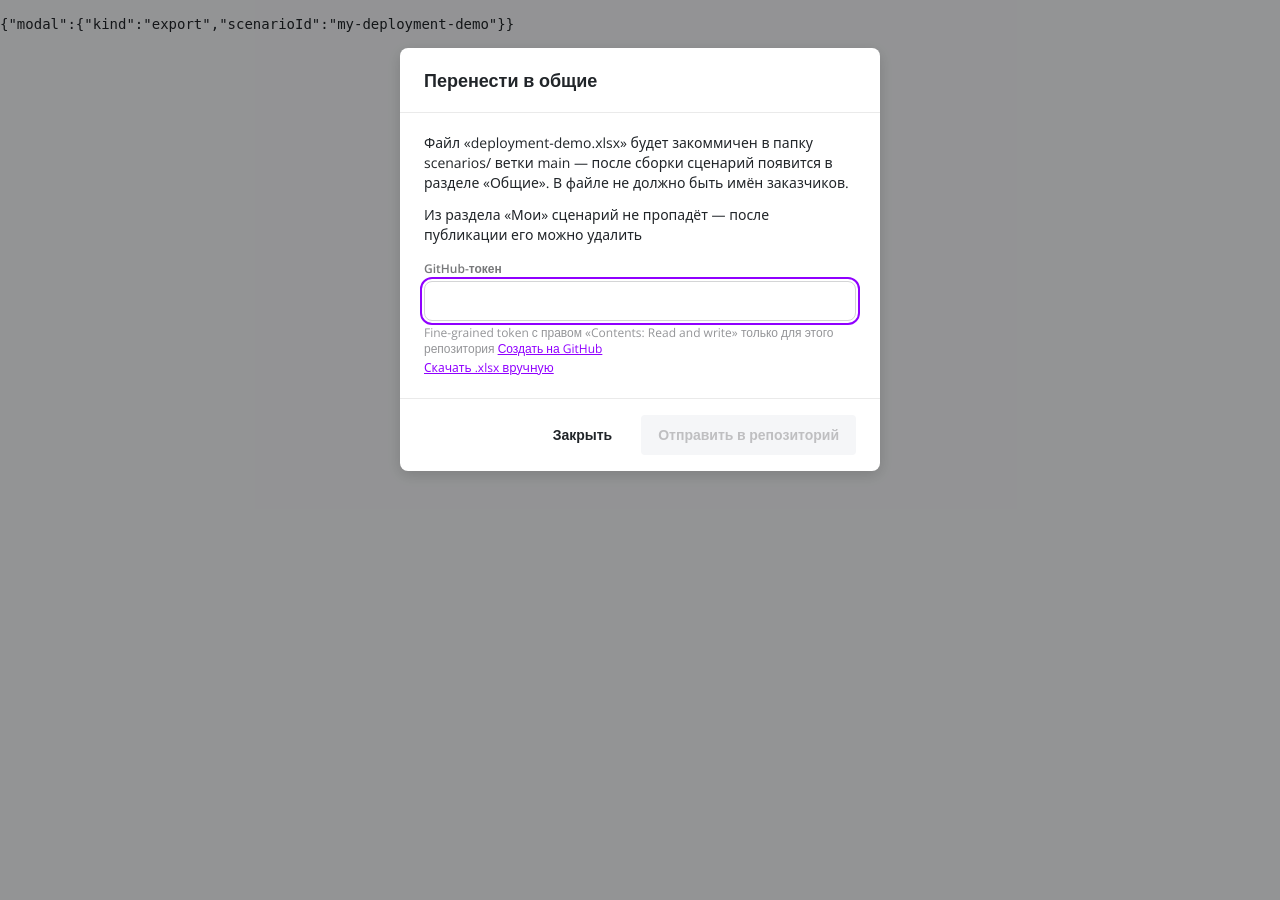
Test: ExportDialog — отправка в репозиторий (SPEC §4.2:255, ТК 35) › отказ сборки книги (SheetJS не загрузился) — «не получилось отправить»
Type "github_pat_fresh" into the password field labelled "GitHub-токен" at (640, 301), box [424,281,856,321]
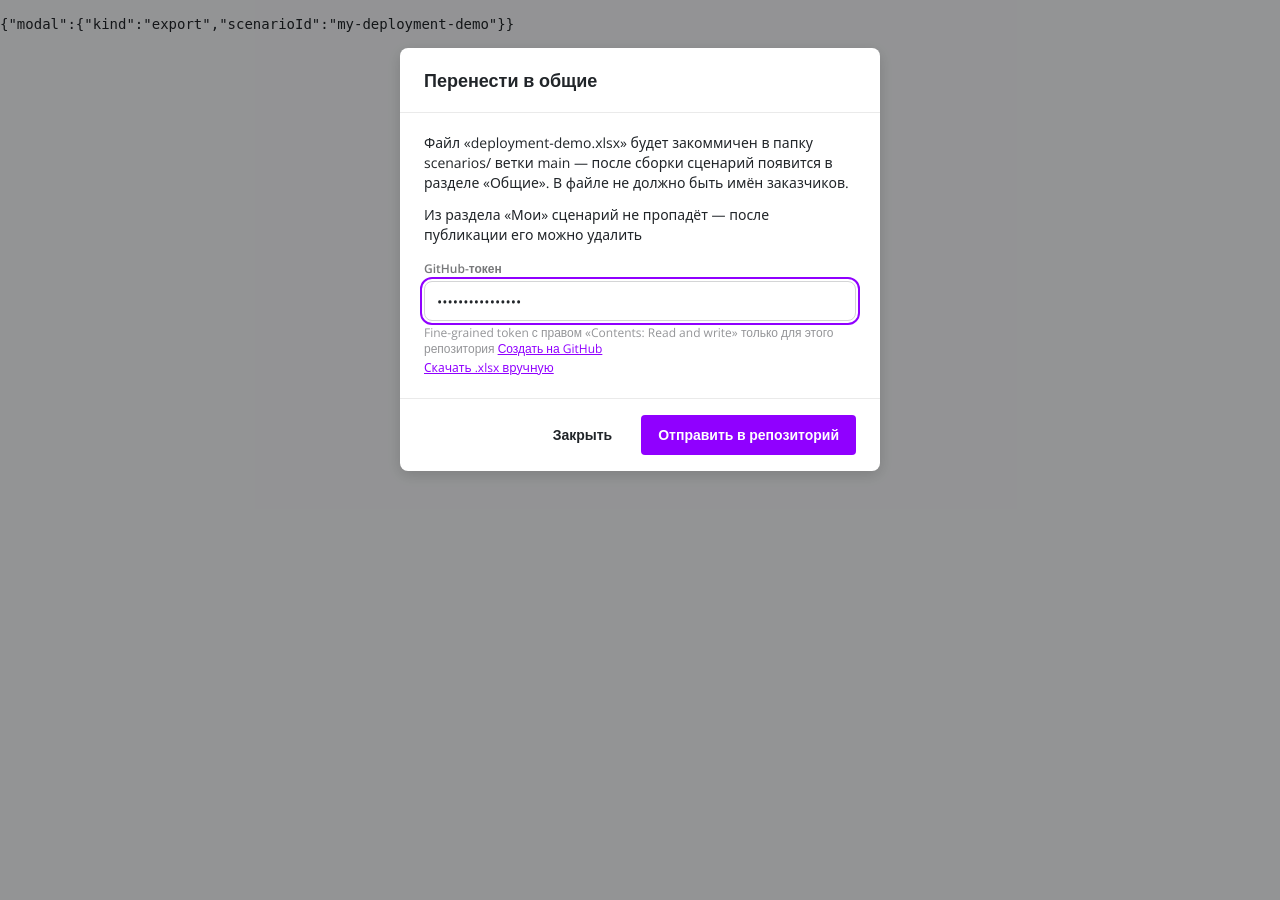
Click the button "Отправить в репозиторий" at (749, 435), box [641,415,856,455]
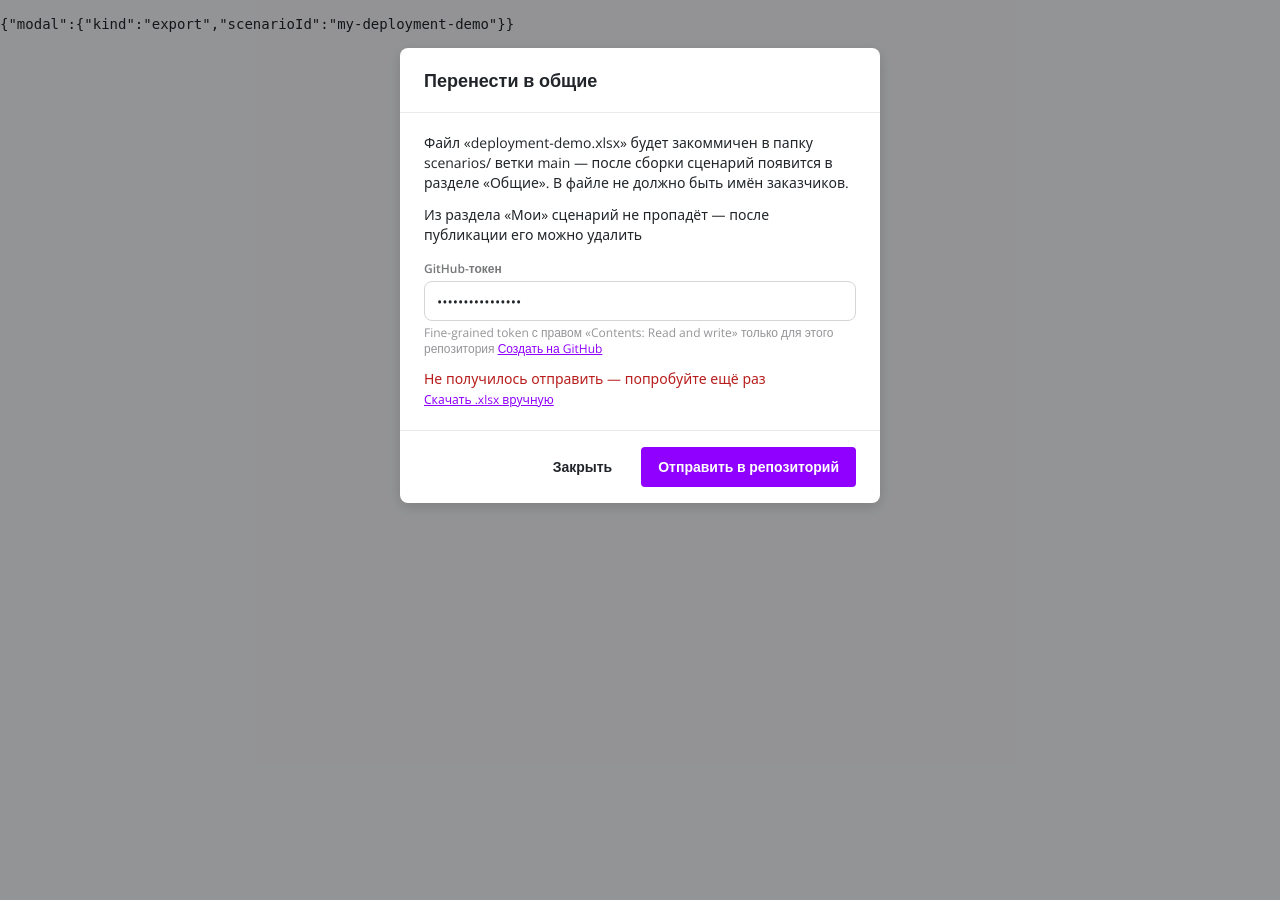
Expected: the message reads "Не получилось отправить — попробуйте ещё раз", [424,369,766,388]
